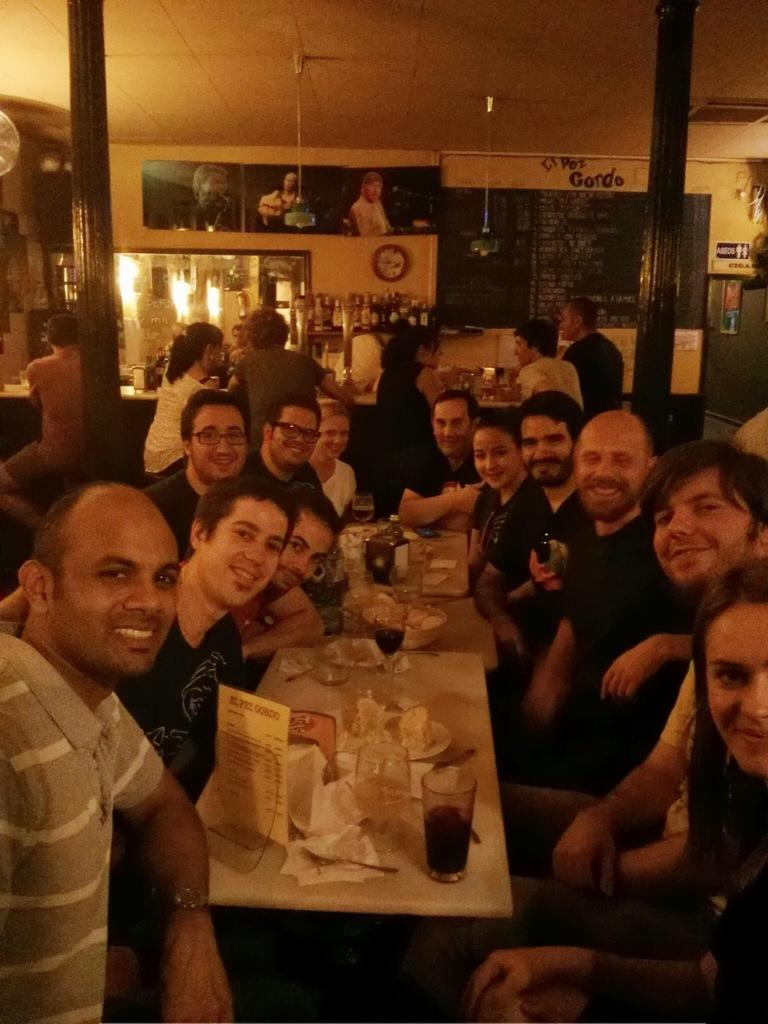Sem Máscara: (60, 503, 174, 680), (646, 464, 746, 580), (697, 599, 766, 764), (198, 503, 291, 602), (576, 415, 647, 522), (192, 398, 246, 483), (275, 515, 334, 592), (520, 422, 571, 484), (270, 407, 317, 470), (471, 433, 516, 489), (431, 400, 462, 455), (312, 410, 340, 467), (511, 333, 534, 365), (562, 308, 578, 336), (209, 344, 221, 369)
